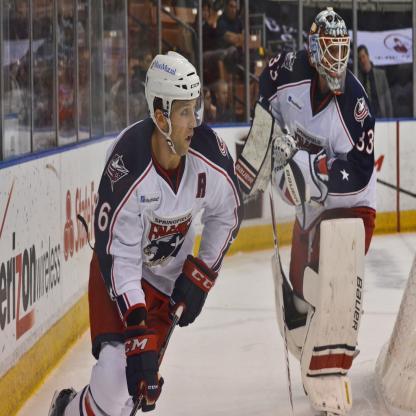Helmet: (143, 46, 203, 162), (309, 9, 353, 99)
